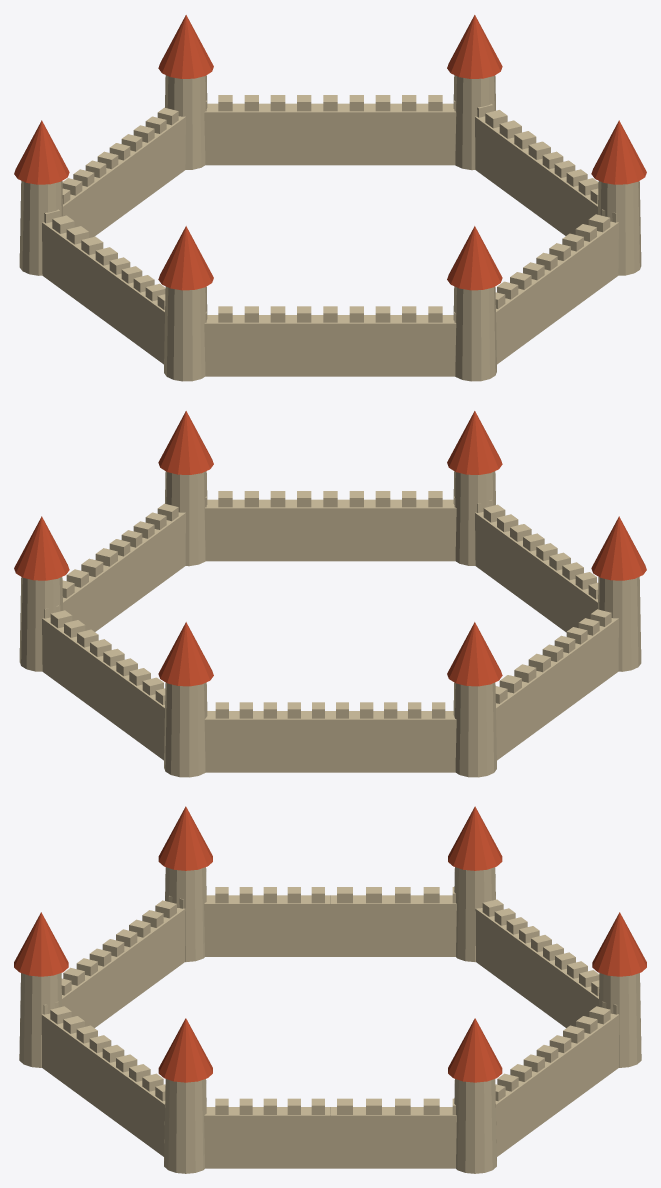
Rendered from building_walls.fbx.
The picture shows the model from 3 angles, top to bottom: view 1: azimuth 30°, elevation 25°; view 2: azimuth 150°, elevation 25°; view 3: azimuth 270°, elevation 25°; orthographic projection.
Parts seen in each view (by area): view 1: building_walls; view 2: building_walls; view 3: building_walls.
Boxes of the visible parts, bbox=[...] form: building_walls: bbox=[14, 15, 646, 381]; building_walls: bbox=[14, 411, 646, 777]; building_walls: bbox=[14, 806, 646, 1173].
Size of the model in its own units: 162 by 47 by 184.
